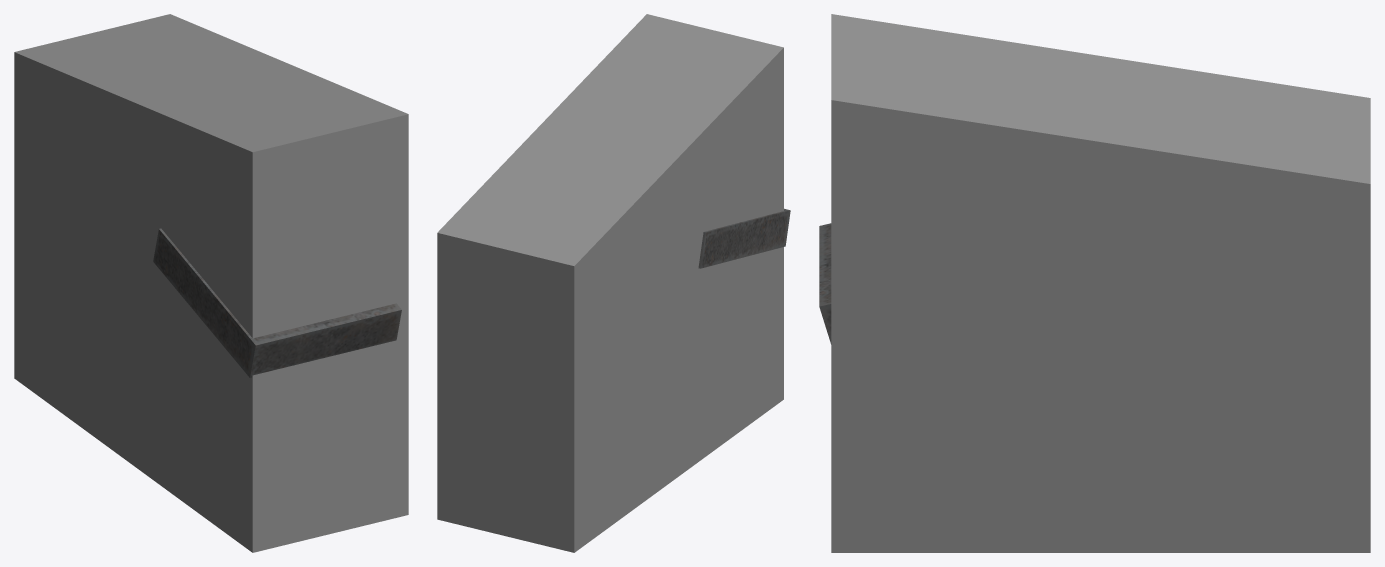
Rendered from Surveillance_Camera_01a_snaps020_Arm.fbx.
The picture shows the model from 3 angles, left to right: view 1: azimuth 30°, elevation 25°; view 2: azimuth 150°, elevation 25°; view 3: azimuth 270°, elevation 25°; orthographic projection. The views are drawn at different scales.
Visible parts, largest first — view 1: Surveillance_Camera_01a_COL_snaps020_Arm, Surveillance_Camera_01a_snaps020_Arm_LOD0; view 2: Surveillance_Camera_01a_COL_snaps020_Arm, Surveillance_Camera_01a_snaps020_Arm_LOD0; view 3: Surveillance_Camera_01a_COL_snaps020_Arm, Surveillance_Camera_01a_snaps020_Arm_LOD0.
Part boxes in pixels (bbox=[...]): Surveillance_Camera_01a_COL_snaps020_Arm: bbox=[14, 14, 408, 552]; Surveillance_Camera_01a_snaps020_Arm_LOD0: bbox=[153, 228, 401, 377]; Surveillance_Camera_01a_COL_snaps020_Arm: bbox=[437, 14, 783, 552]; Surveillance_Camera_01a_snaps020_Arm_LOD0: bbox=[698, 208, 790, 268]; Surveillance_Camera_01a_COL_snaps020_Arm: bbox=[831, 14, 1370, 552]; Surveillance_Camera_01a_snaps020_Arm_LOD0: bbox=[819, 223, 831, 344].
Size of what is drawn, in the model's own units: 0.1029 by 0.2487 by 0.2744.
Materials: 2 (1 with a texture image).
